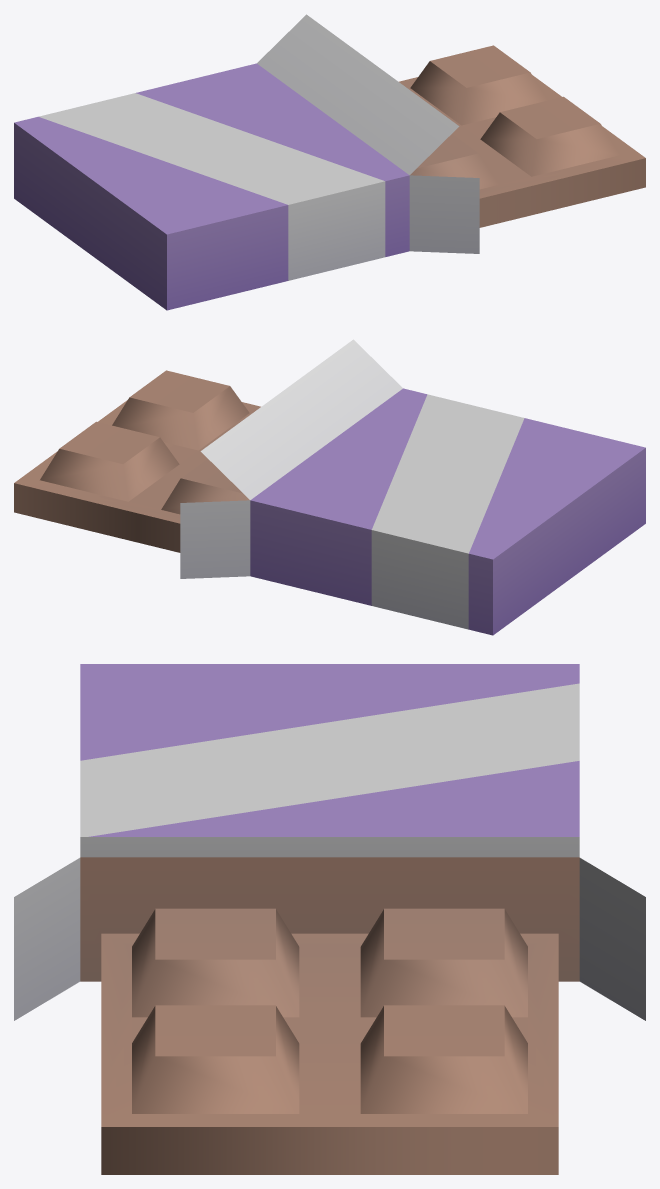
Rendered from chocolate-wrapper.glb.
3 views of the same model, one above another, from view 1: azimuth 30°, elevation 25°; view 2: azimuth 150°, elevation 25°; view 3: azimuth 270°, elevation 25° (orthographic). The views are drawn at different scales.
Parts seen in each view (by area): view 1: chocolate-wrapper; view 2: chocolate-wrapper; view 3: chocolate-wrapper.
Part boxes in pixels (x1,y1,x2,y2): chocolate-wrapper: [14, 14, 645, 310]; chocolate-wrapper: [14, 339, 645, 635]; chocolate-wrapper: [14, 664, 645, 1174].
Bounding box in the file's own units: 0.2924 × 0.0649 × 0.202.
